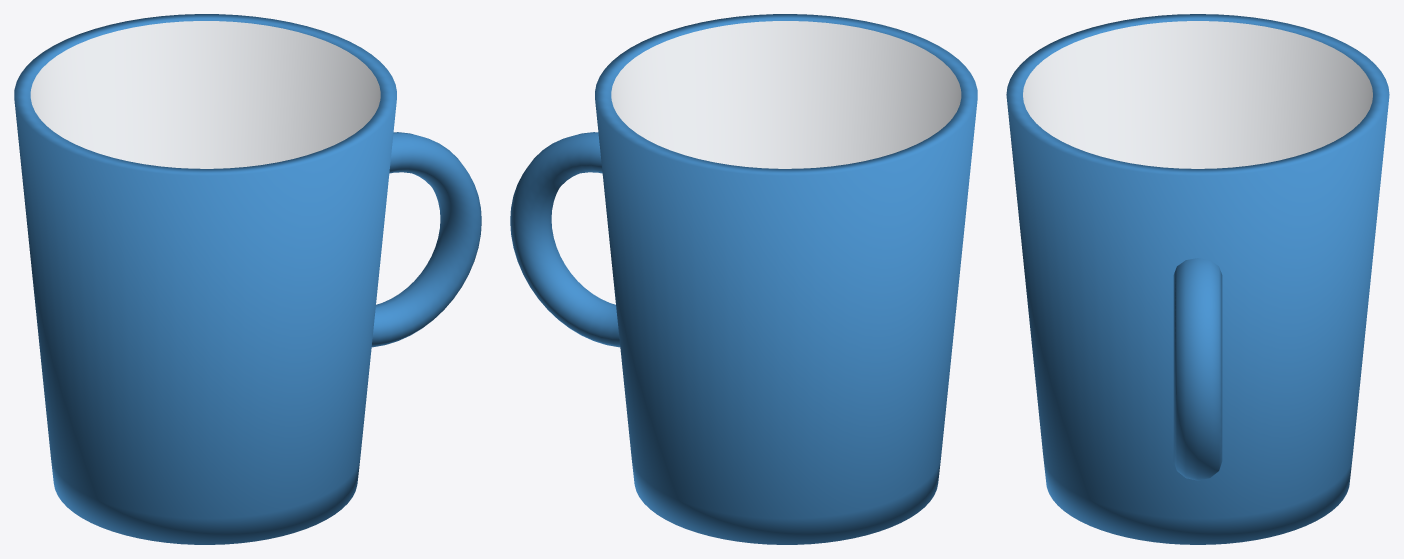
The model's file is bardak.glb.
The picture shows the model from 3 angles, left to right: view 1: azimuth 30°, elevation 25°; view 2: azimuth 150°, elevation 25°; view 3: azimuth 270°, elevation 25°; orthographic projection.
Parts seen in each view (by area): view 1: Bardak; view 2: Bardak; view 3: Bardak.
Part boxes in pixels (x1,y1,x2,y2): Bardak: (14,14,481,544); Bardak: (510,14,977,544); Bardak: (1006,14,1389,544).
Size of the model in its own units: 0.95 by 0.7993 by 0.7194.
